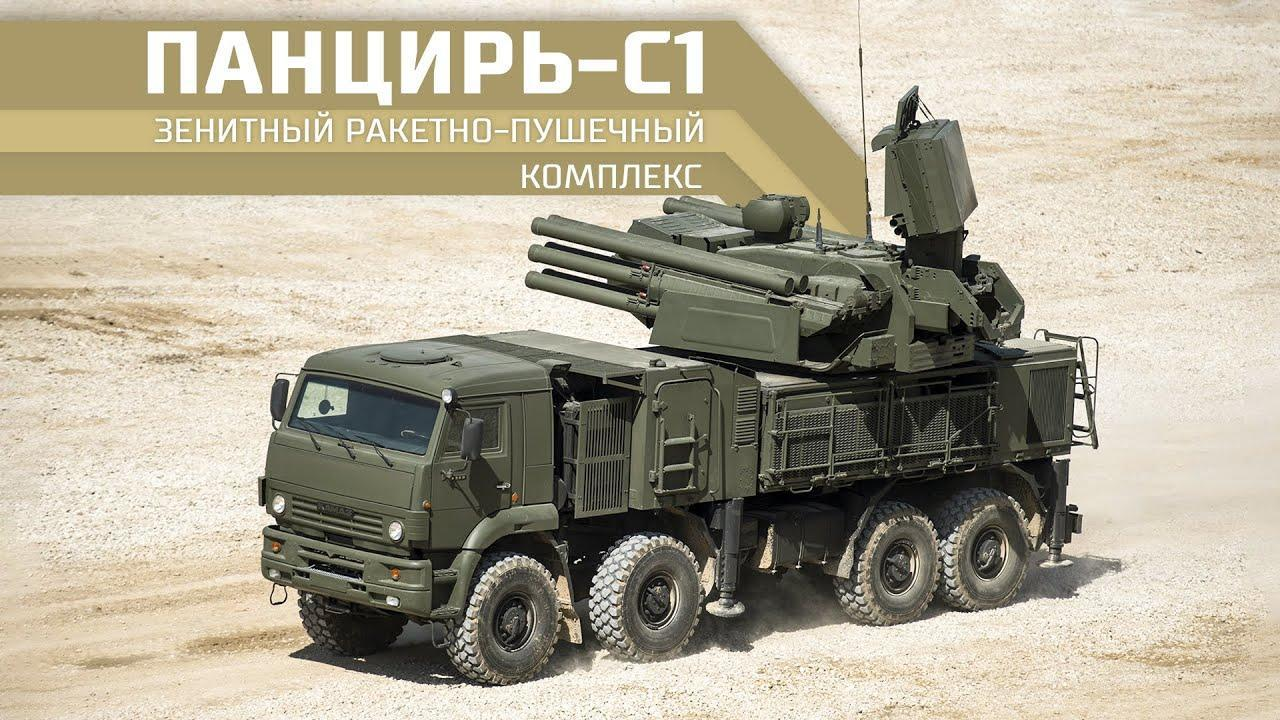truck: (229, 83, 1128, 698)
